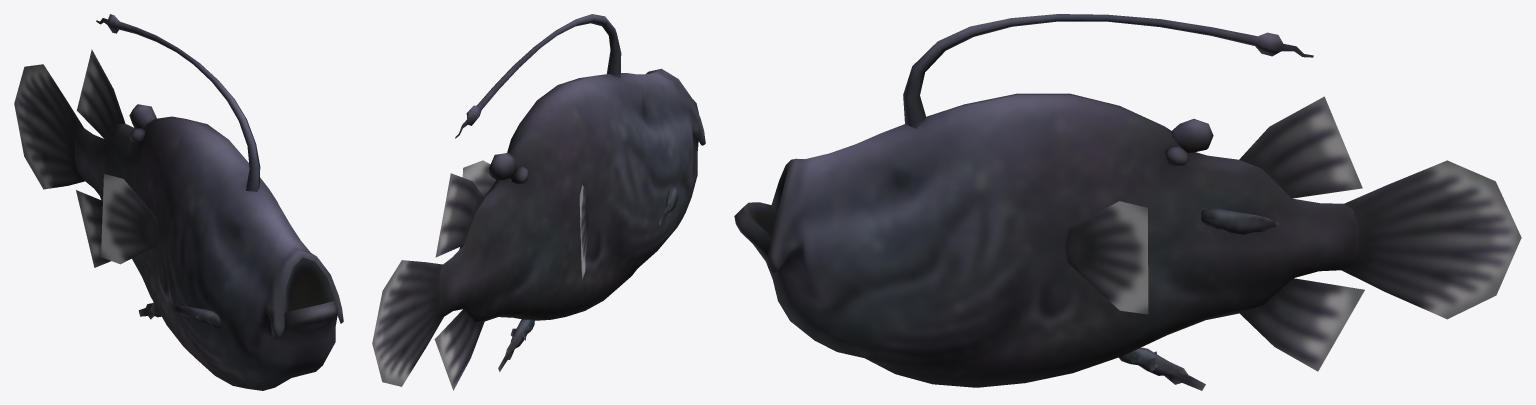
File: football-fish.glb
3 views of the same model, side by side, from view 1: azimuth 30°, elevation 25°; view 2: azimuth 150°, elevation 25°; view 3: azimuth 270°, elevation 25° (orthographic). The views are drawn at different scales.
Visible parts, largest first — view 1: FishChouchinankou__mChouchinankou; view 2: FishChouchinankou__mChouchinankou; view 3: FishChouchinankou__mChouchinankou.
Boxes of the visible parts, box(x1,y1,x2,y2) form: FishChouchinankou__mChouchinankou: box(14, 14, 343, 390); FishChouchinankou__mChouchinankou: box(372, 14, 705, 390); FishChouchinankou__mChouchinankou: box(734, 14, 1521, 390).
Bounding box in the file's own units: 2.32 × 5.29 × 10.02.
1 material, 1 textured.
